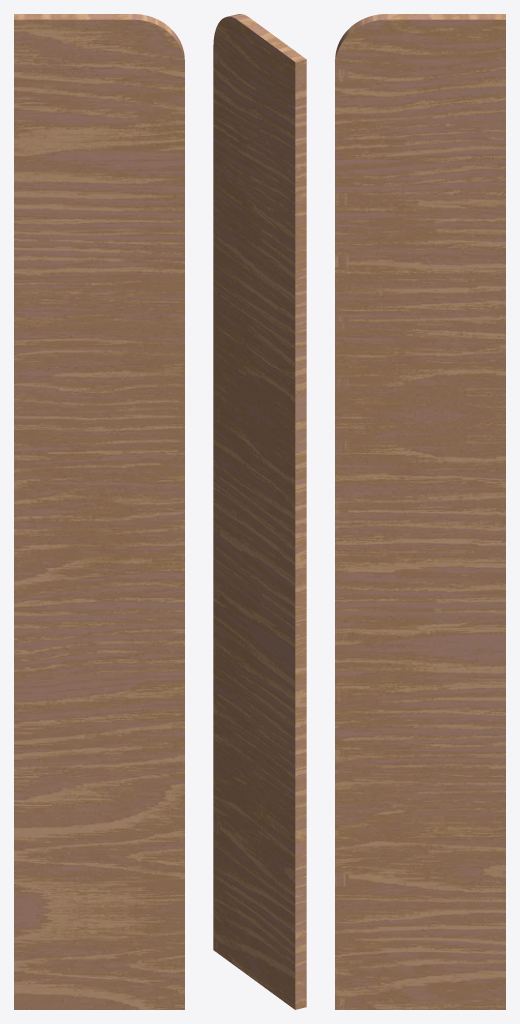
The model's file is Support_016-transformed.glb.
3 views of the same model, side by side, from view 1: azimuth 90°, elevation 25°; view 2: azimuth 210°, elevation 25°; view 3: azimuth 270°, elevation 25° (orthographic). The views are drawn at different scales.
Parts seen in each view (by area): view 1: Main; view 2: Main; view 3: Main.
Part boxes in pixels (bbox=[...]): Main: bbox=[14, 14, 184, 1009]; Main: bbox=[213, 14, 306, 1009]; Main: bbox=[335, 14, 505, 1009].
Size of the model in its own units: 0.02 by 1.6 by 0.25.
Materials: 1 (1 with a texture image).
